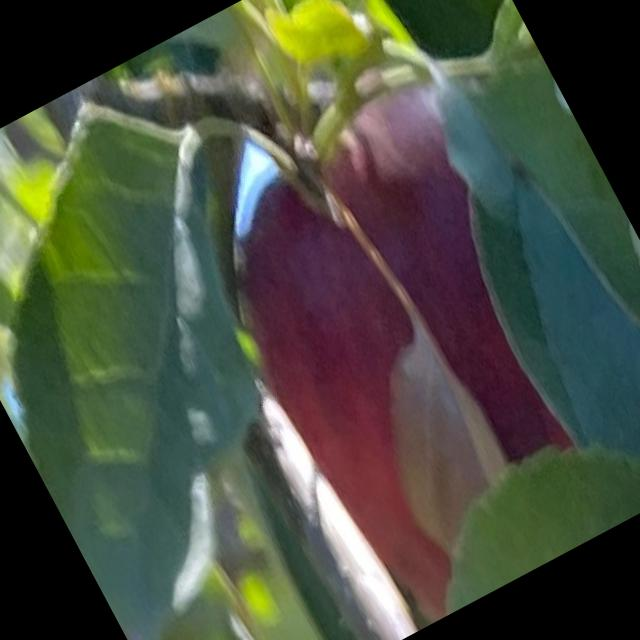Apples: (168, 70, 639, 639)
